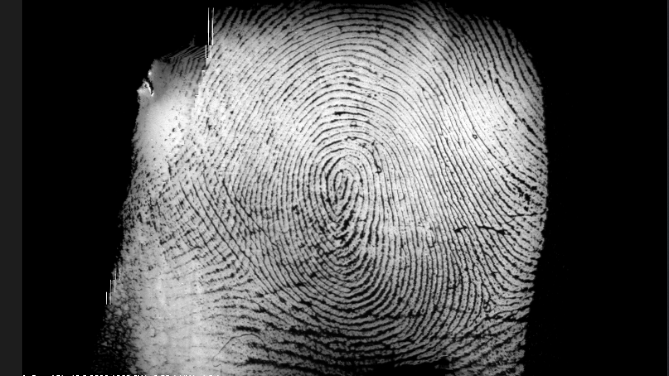nucelo: (328, 167, 359, 221)
verticilo: (472, 292, 502, 320), (235, 260, 265, 286)
